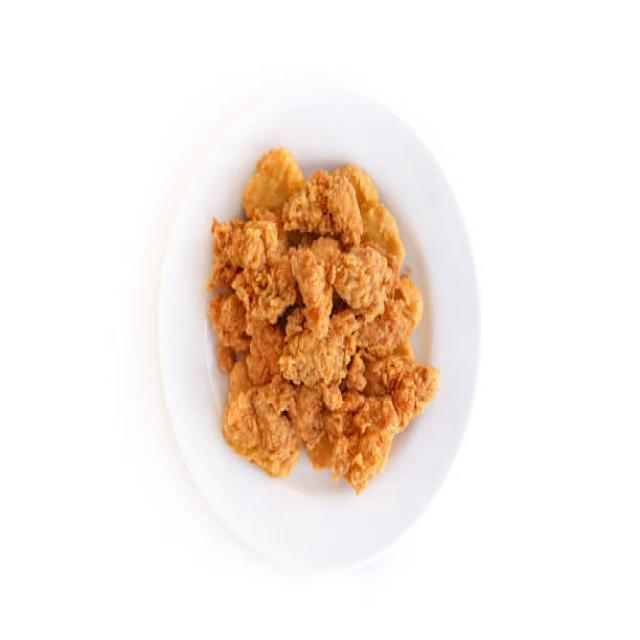Frango: (206, 141, 433, 486)
